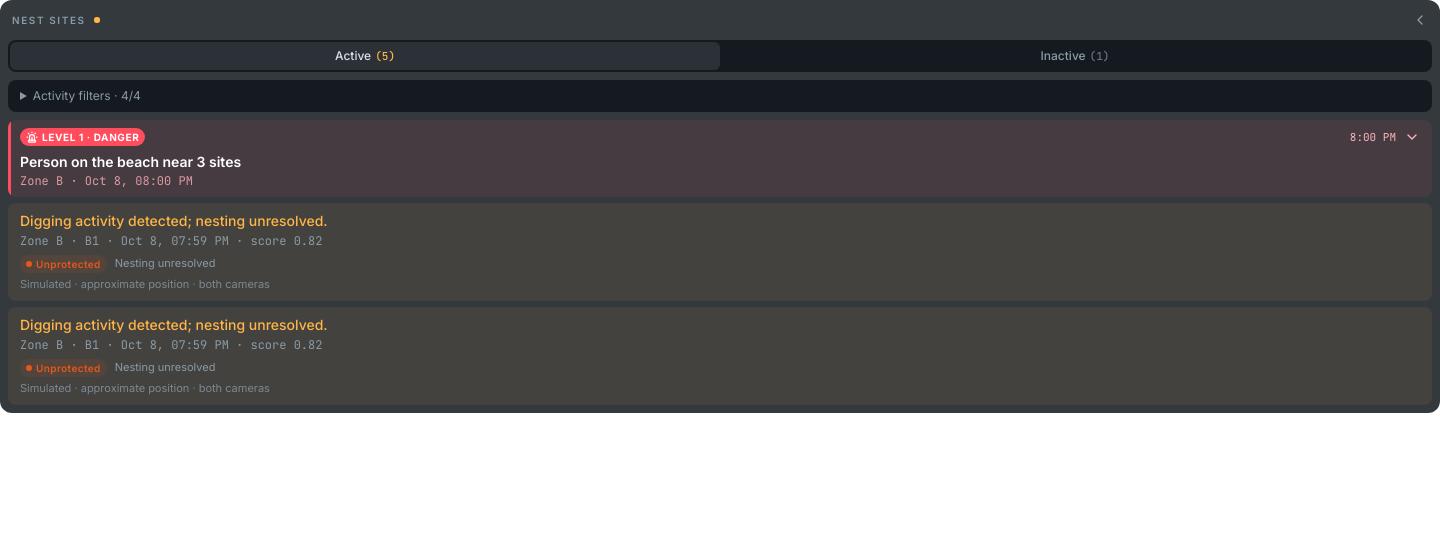
Scenario: AlertsFeed dangers › shows the server message when a resolve fails
The width and height of the screenshot is (1440, 537).
Click the button "Person on the beach near 3 sites".
click(83, 137)  # box [8,120,1432,197]
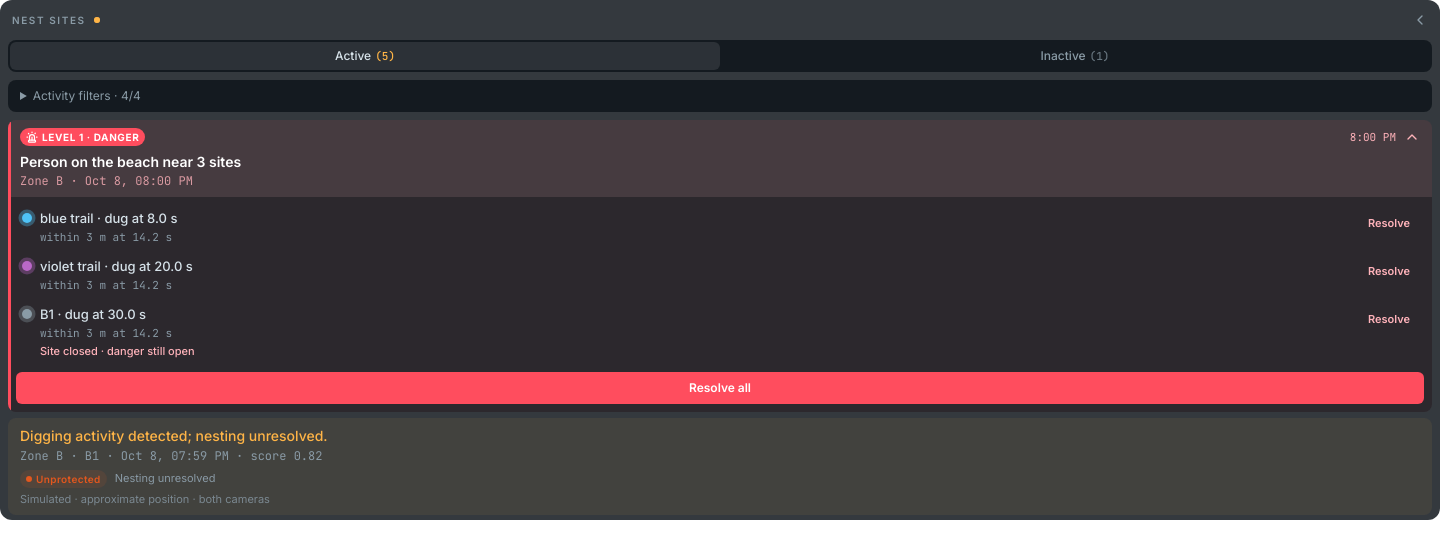
Click the button "Resolve all".
click(720, 388)  # box [16,372,1424,404]
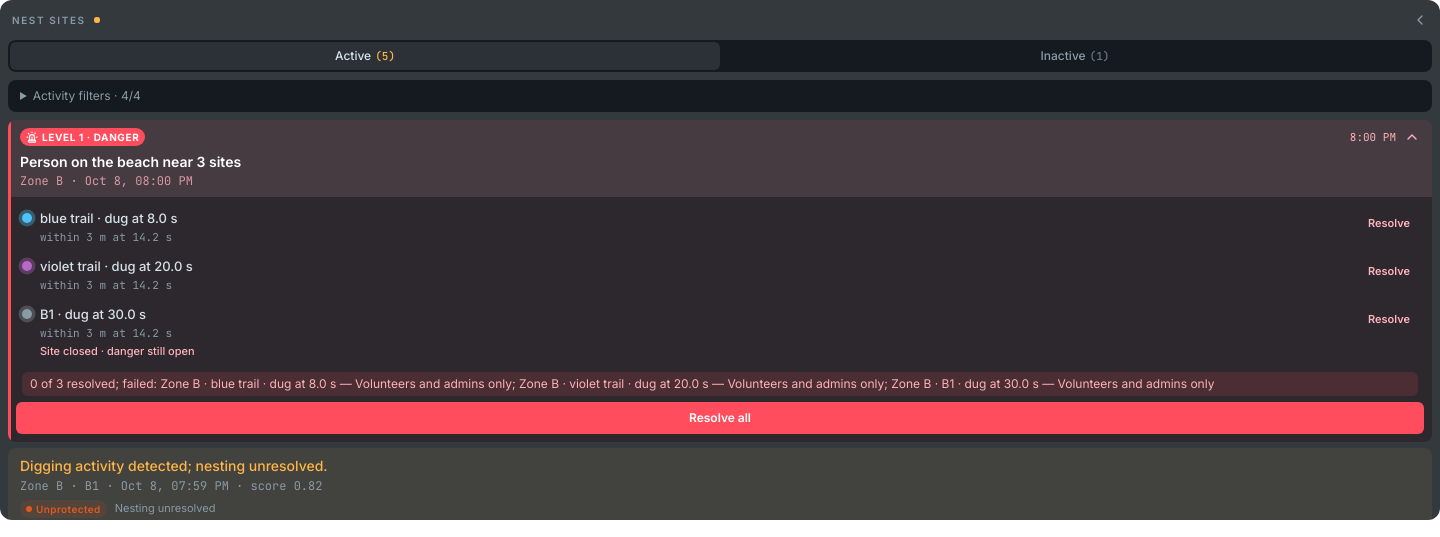
Check: the message shows "Volunteers and admins only", box [30,376,1214,391]
